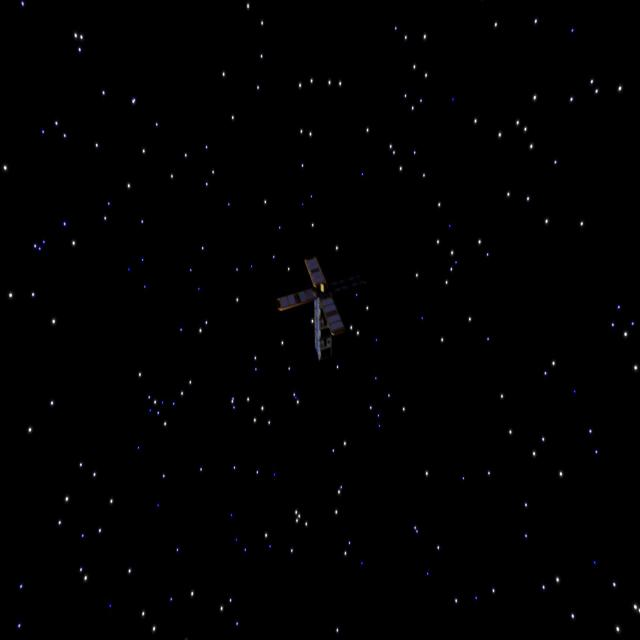medium_debris: (273, 251, 358, 365)
